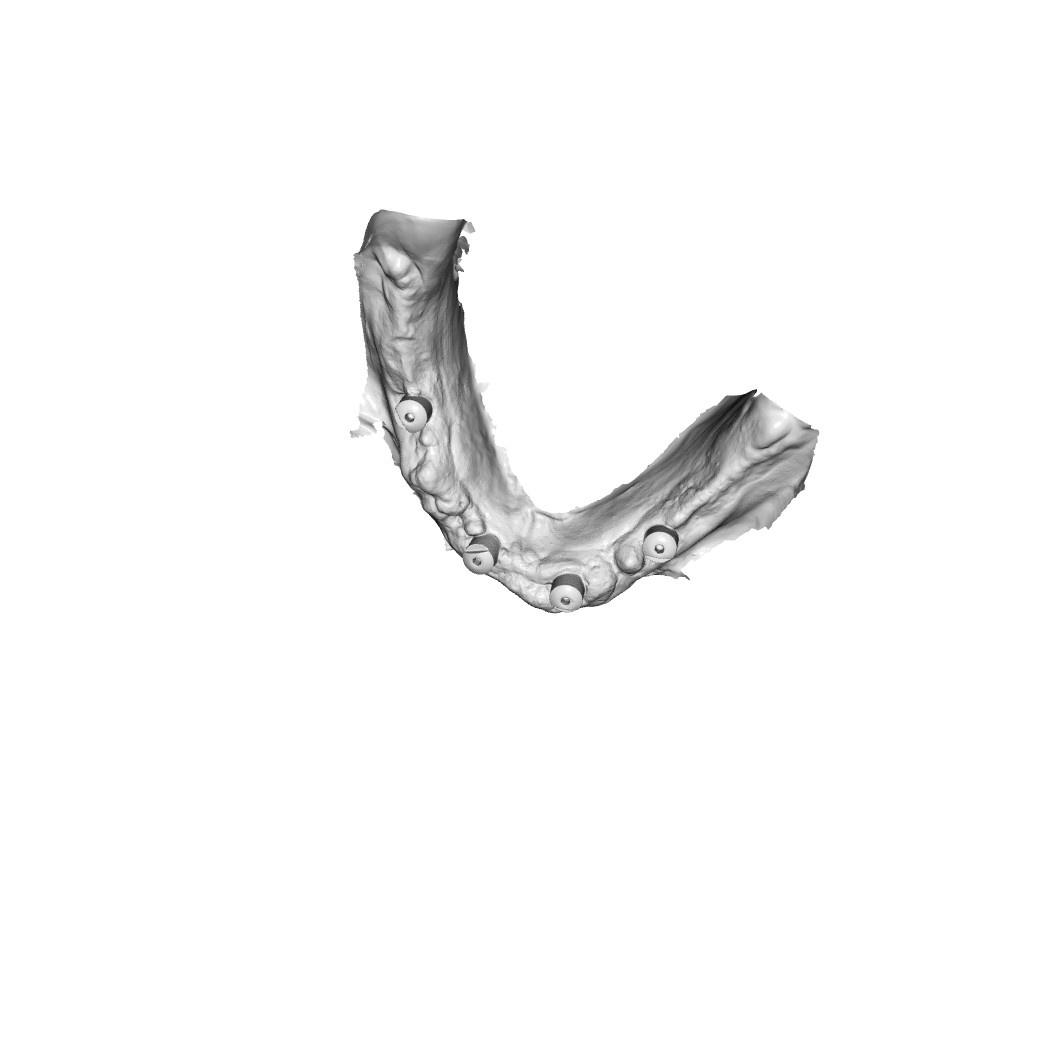implant: (460, 531, 504, 575), (396, 392, 437, 438), (546, 574, 589, 612), (642, 523, 684, 560)
